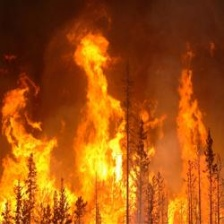fire: (71, 36, 147, 221), (1, 88, 62, 223), (176, 68, 215, 222)
